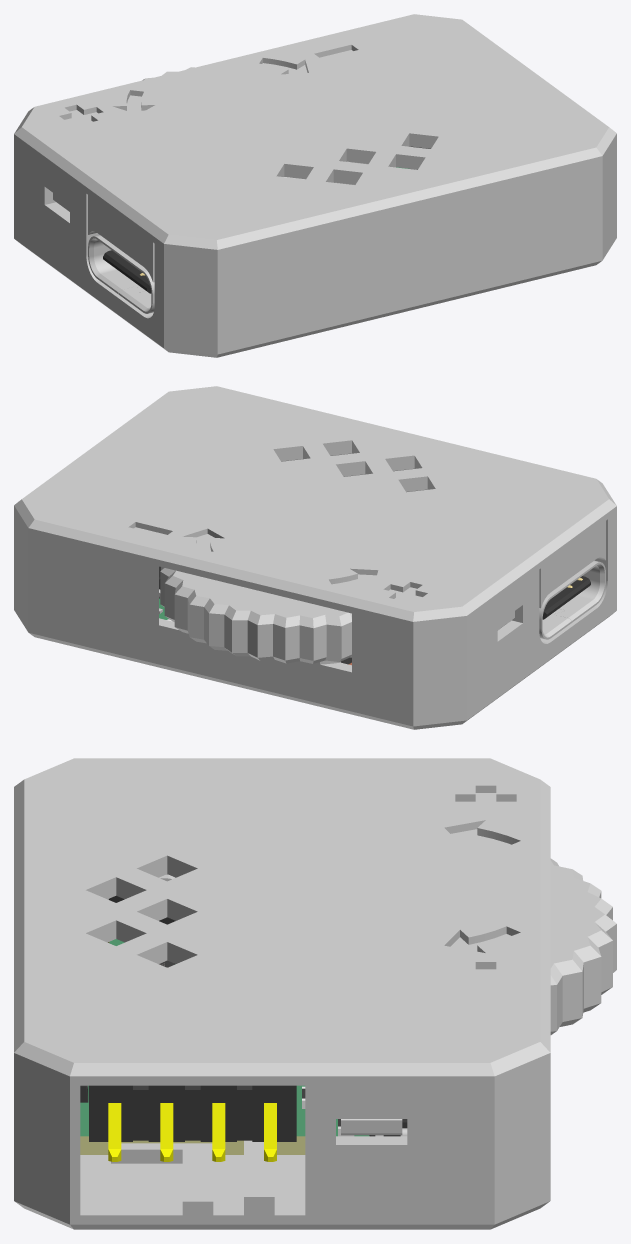
File: Arinu_v1.1.glb
3 views of the same model, one above another, from view 1: azimuth 30°, elevation 25°; view 2: azimuth 150°, elevation 25°; view 3: azimuth 270°, elevation 25° (orthographic). The views are drawn at different scales.
Parts seen in each view (by area): view 1: Cut006, Cut007, TYPE-C-SMD_TYPE-C-6P-073~TYPE-C-SMD_TYPE-C-6P-073~Owys; view 2: Cut006, Cut007, Fusion011, TYPE-C-SMD_TYPE-C-6P-073~TYPE-C-SMD_TYPE-C-6P-073~Owys; view 3: Cut006, Cut007, CONN-SMD_HX-PZ2.54-1X4P-WT~HDR-SMD_4P-P2.54_TSM-104-01-L-SH- (×2), Fusion011, Scale.
Boxes of the visible parts, x1,y1,x2,y2 form: Cut006: [14, 14, 616, 282]; Cut007: [14, 140, 616, 357]; TYPE-C-SMD_TYPE-C-6P-073~TYPE-C-SMD_TYPE-C-6P-073~Owys: [88, 235, 154, 313]; Cut006: [14, 386, 616, 630]; Cut007: [14, 459, 616, 729]; Fusion011: [160, 567, 351, 663]; TYPE-C-SMD_TYPE-C-6P-073~TYPE-C-SMD_TYPE-C-6P-073~Owys: [539, 560, 605, 639]; Cut006: [14, 758, 550, 1135]; Cut007: [14, 1062, 550, 1229]; CONN-SMD_HX-PZ2.54-1X4P-WT~HDR-SMD_4P-P2.54_TSM-104-01-L-SH- (×2): [89, 1085, 296, 1161]; Fusion011: [550, 858, 616, 1034]; Scale: [80, 939, 369, 1154].
Bounding box in the file's own units: 0.0363 × 0.009 × 0.0295.
